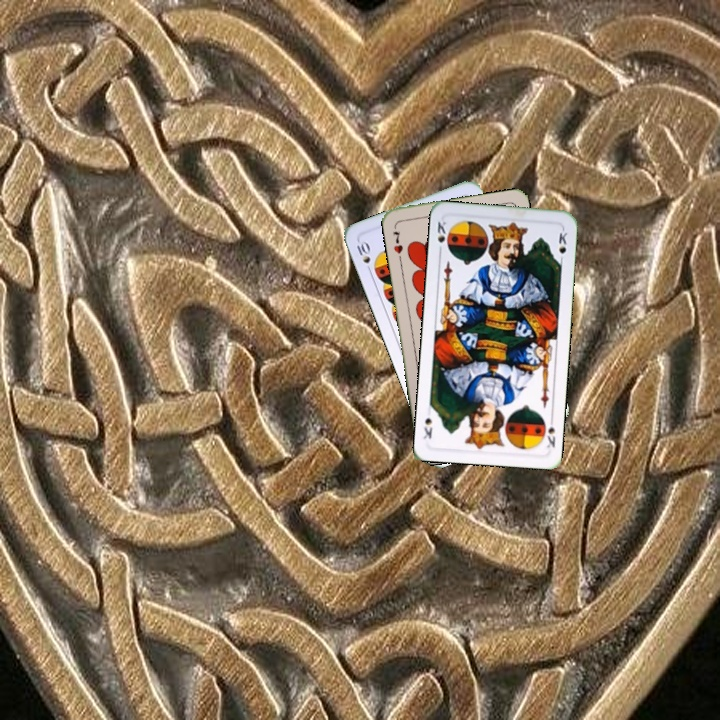H7: (389, 227, 406, 256)
S10: (352, 236, 374, 276)
SK: (433, 217, 450, 256), (543, 413, 558, 450)
